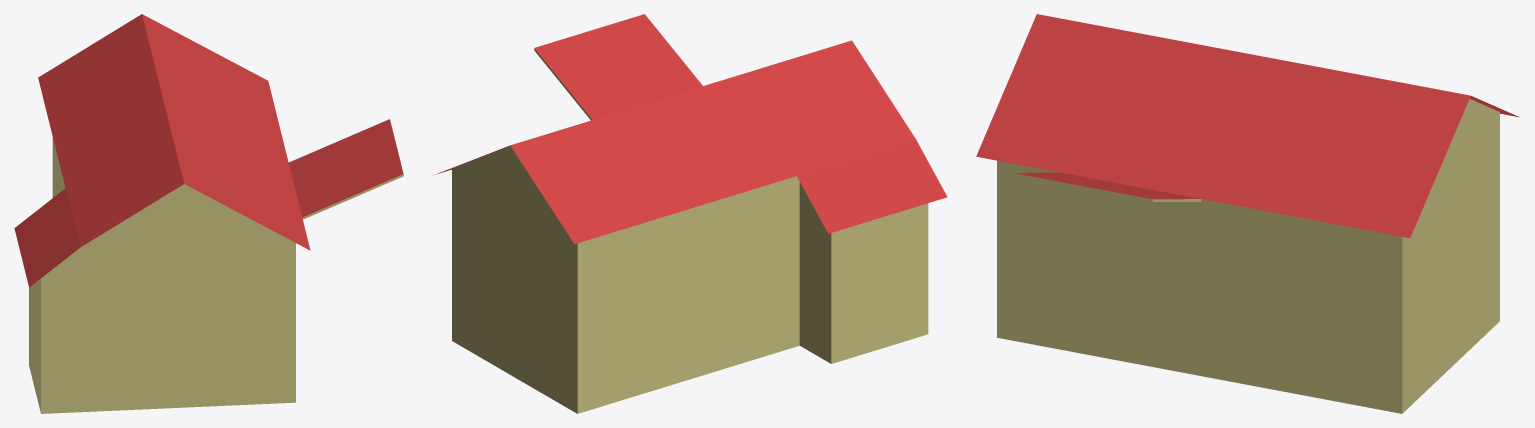
3 views of the same model, side by side, from view 1: azimuth 30°, elevation 25°; view 2: azimuth 150°, elevation 25°; view 3: azimuth 270°, elevation 25° (orthographic). The views are drawn at different scales.
Bounding box in the file's own units: 16.33 × 17.33 × 9.46.
